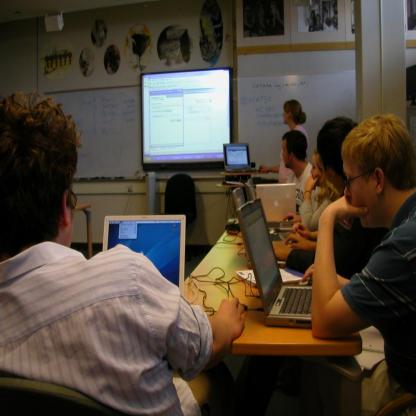board: (227, 185, 330, 348), (103, 215, 185, 296), (232, 188, 294, 263), (245, 180, 294, 233), (223, 144, 256, 172)
